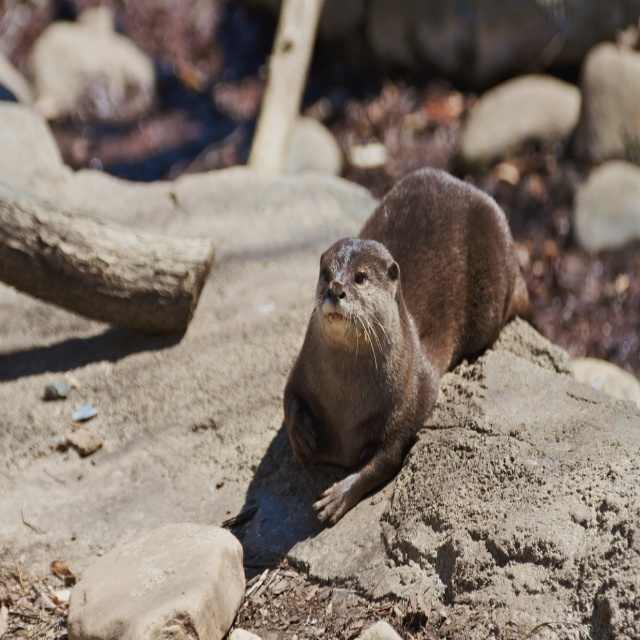Harbor seal: (284, 167, 527, 520)
